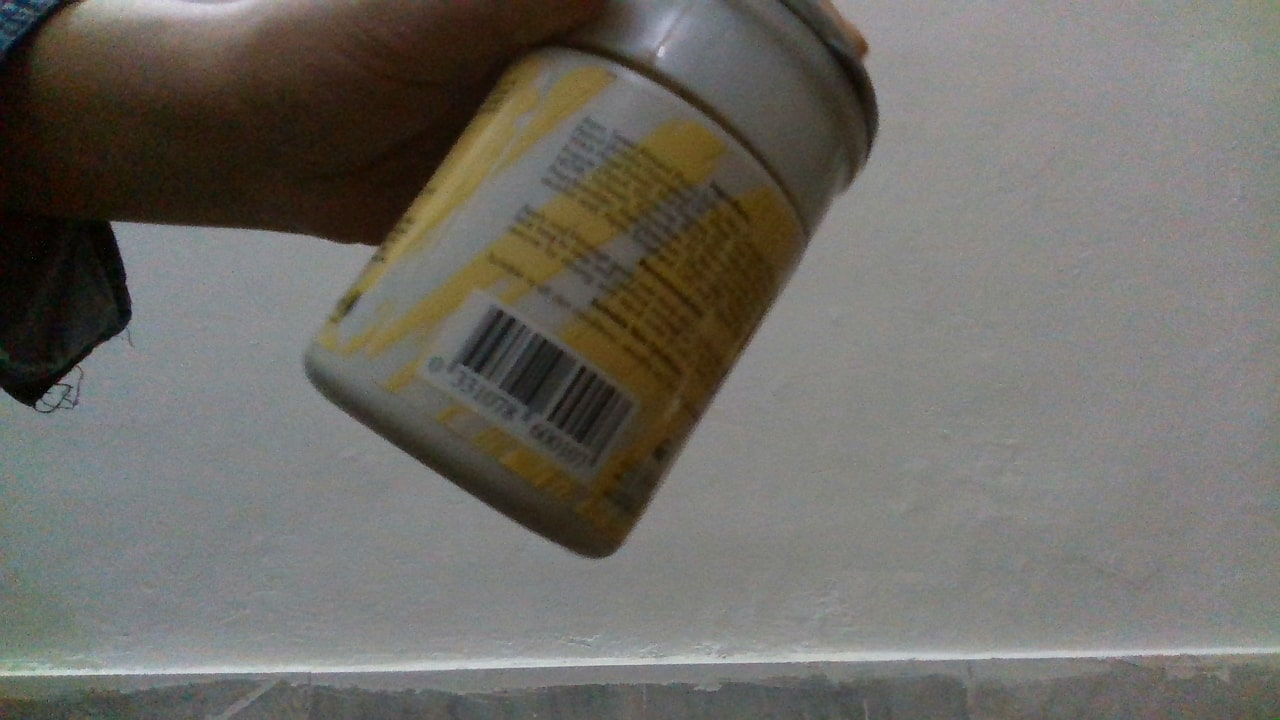Barcode: (444, 301, 639, 478)
